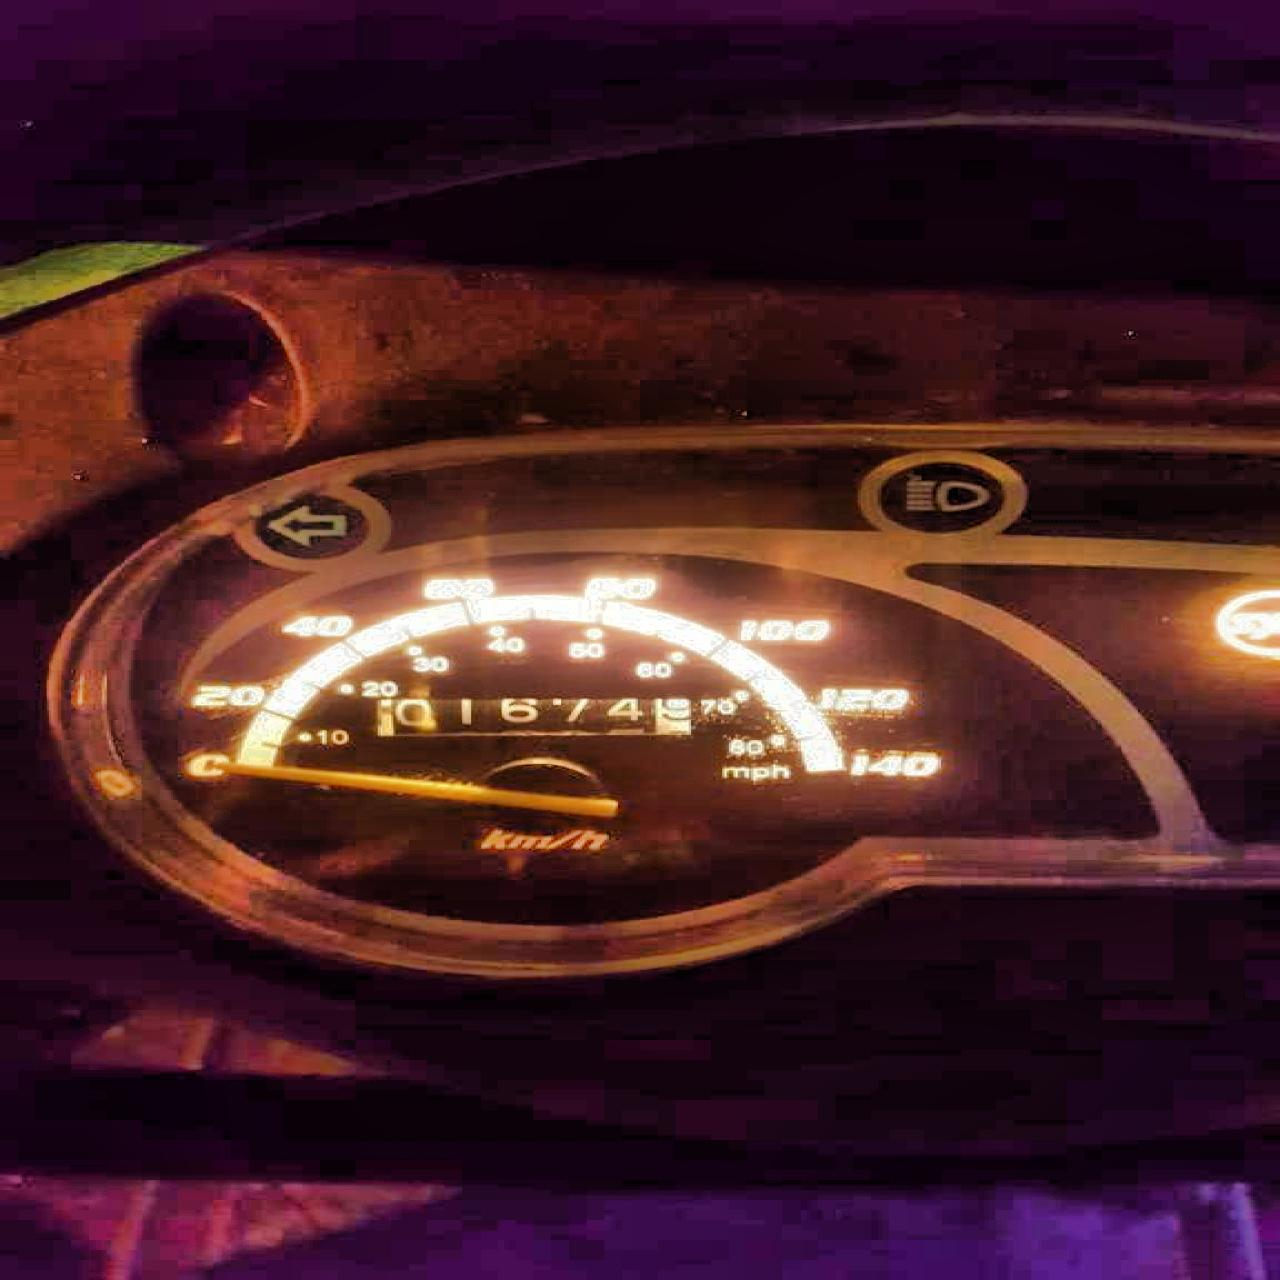0: (389, 696, 434, 730)
1: (449, 695, 478, 730)
4: (602, 697, 647, 724)
6: (498, 695, 538, 727)
7: (549, 695, 593, 726)
9: (658, 696, 693, 723)
odometer: (372, 694, 697, 736)
